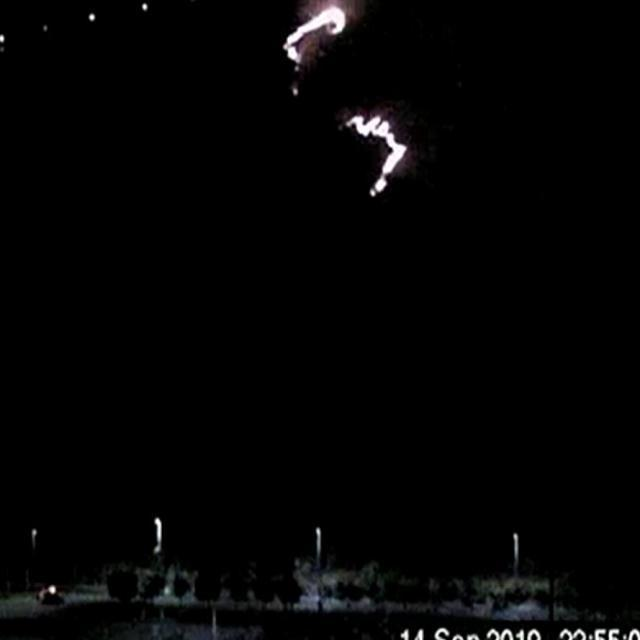Fire: (338, 114, 414, 204), (274, 2, 351, 68)
